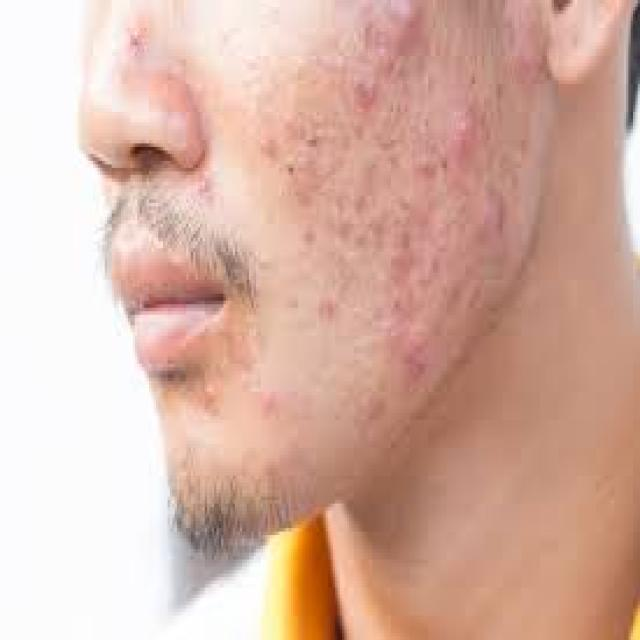Eczema: (292, 26, 501, 342)
